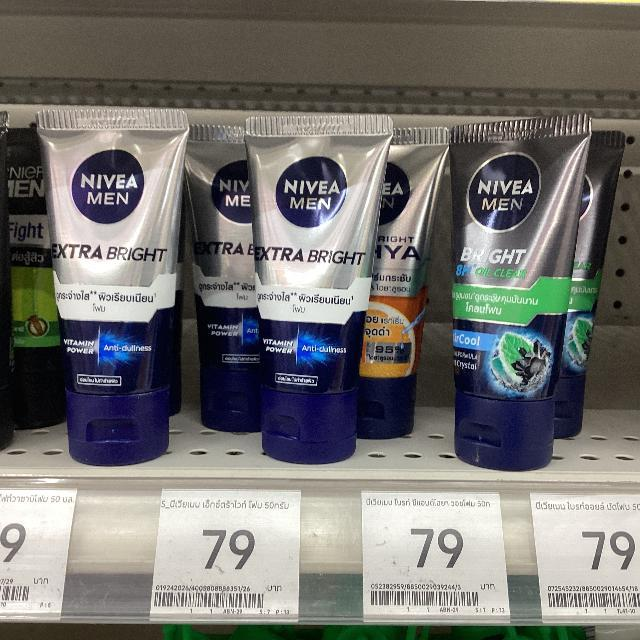Squeeze Tube: (17, 95, 603, 482)
